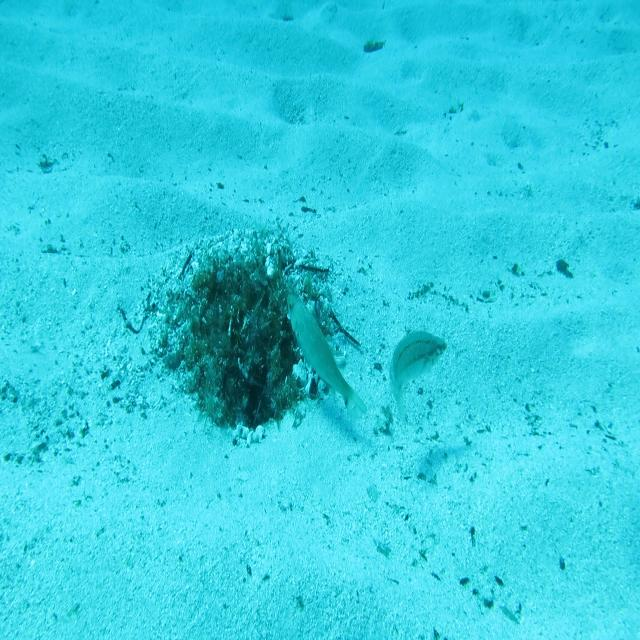BN: (285, 287, 370, 430)
core_nest: (216, 276, 274, 318)
female: (386, 328, 448, 433)
nest: (137, 221, 351, 465)
vegetation: (362, 36, 388, 54)
